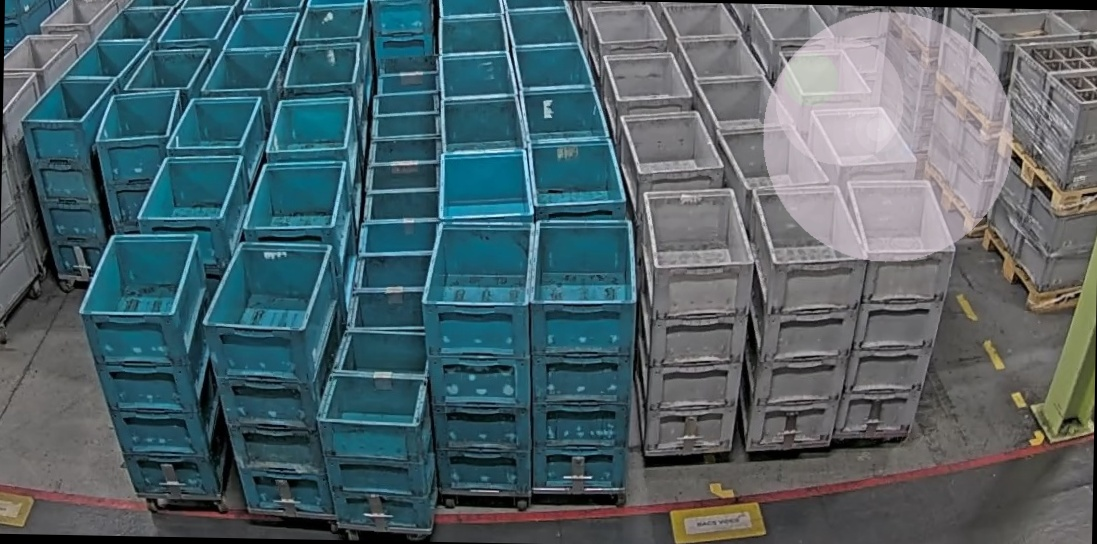4G: (738, 181, 870, 450), (831, 177, 958, 439), (635, 185, 757, 456)
B4: (73, 231, 233, 497), (199, 239, 345, 517), (415, 221, 539, 495), (523, 217, 641, 490), (91, 87, 185, 235)
B8: (312, 329, 442, 531)
